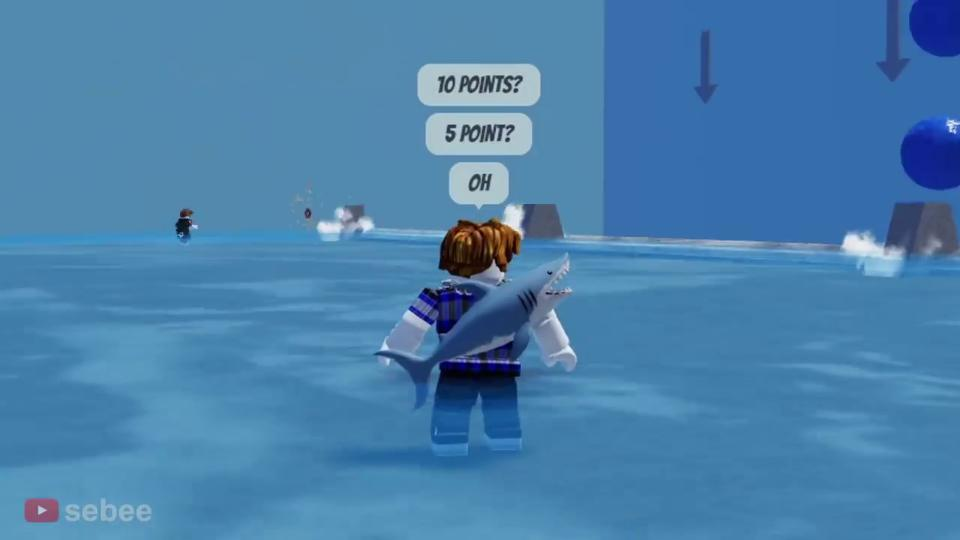Character: (378, 218, 577, 456), (176, 208, 199, 244)
